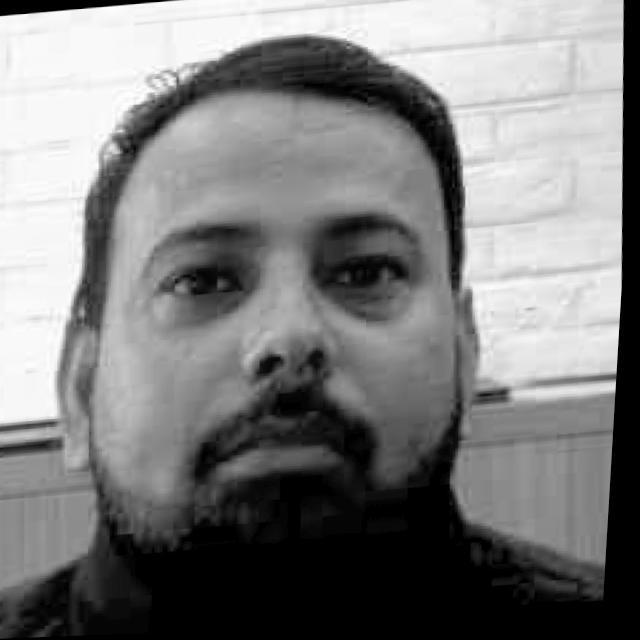puffy_eyes: (158, 297, 255, 333), (327, 293, 417, 327)
